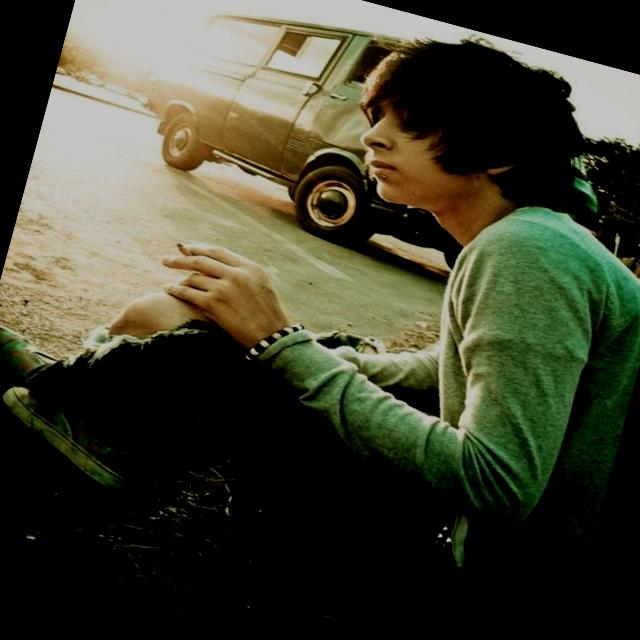smoke: (160, 224, 214, 265)
